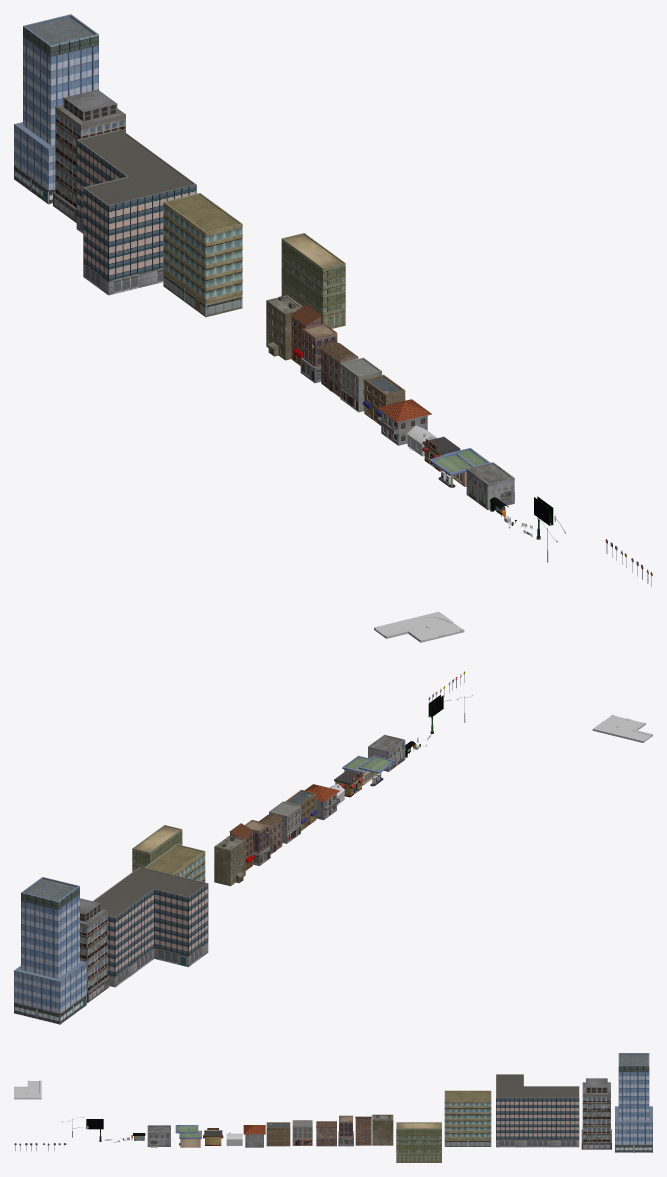
Rendered from Low Poly City Pack.FBX.
3 views of the same model, one above another, from view 1: azimuth 30°, elevation 25°; view 2: azimuth 150°, elevation 25°; view 3: azimuth 270°, elevation 25° (orthographic). The views are drawn at different scales.
Parts seen in each view (by area): view 1: wide building, glass syskraper, wide buiding, urban building, high building, electricity building, old bricked building, middle house, wide shops building, wedding cake building, wide small shop building, petrol station (+2 smaller); view 2: wide building, glass syskraper, high building, wide buiding, old bricked building, urban building, petrol station, electricity building, wide shops building, wedding cake building, middle house, wide small shop building (+3 smaller); view 3: wide building, glass syskraper, wide buiding, high building, urban building, old bricked building, wide small shop building, Urban House, wide shops building, electricity building, petrol station, shop house building (+5 smaller).
Boxes of the visible parts, box(x1,y1,x2,y2) form: wide building: box(76, 129, 196, 295); glass syskraper: box(14, 14, 98, 204); wide buiding: box(163, 193, 242, 317); urban building: box(281, 233, 345, 328); high building: box(53, 89, 125, 222); electricity building: box(466, 462, 514, 510); old bricked building: box(266, 295, 302, 360); middle house: box(377, 399, 431, 445); wide shops building: box(340, 357, 381, 412); wedding cake building: box(300, 323, 337, 383); wide small shop building: box(362, 374, 405, 425); petrol station: box(429, 448, 490, 487); wide building: box(93, 866, 208, 987); glass syskraper: box(14, 877, 86, 1024); high building: box(80, 898, 109, 1002); wide buiding: box(144, 844, 205, 882); old bricked building: box(214, 835, 245, 886); urban building: box(132, 825, 182, 871); petrol station: box(342, 755, 395, 786); electricity building: box(368, 734, 405, 771); wide shops building: box(269, 801, 300, 843); wedding cake building: box(245, 820, 270, 865); middle house: box(305, 784, 340, 820); wide small shop building: box(285, 789, 317, 830); wide building: box(496, 1074, 579, 1147); glass syskraper: box(615, 1053, 652, 1152); wide buiding: box(444, 1090, 491, 1146); high building: box(581, 1078, 611, 1149); urban building: box(396, 1122, 441, 1162); old bricked building: box(372, 1114, 393, 1145); wide small shop building: box(266, 1122, 290, 1146); Urban House: box(316, 1121, 336, 1146); wide shops building: box(292, 1120, 312, 1145); electricity building: box(147, 1125, 170, 1147); petrol station: box(175, 1125, 201, 1147); shop house building: box(355, 1116, 371, 1145).
Bounding box in the file's own units: 1487 × 746 × 5081.
